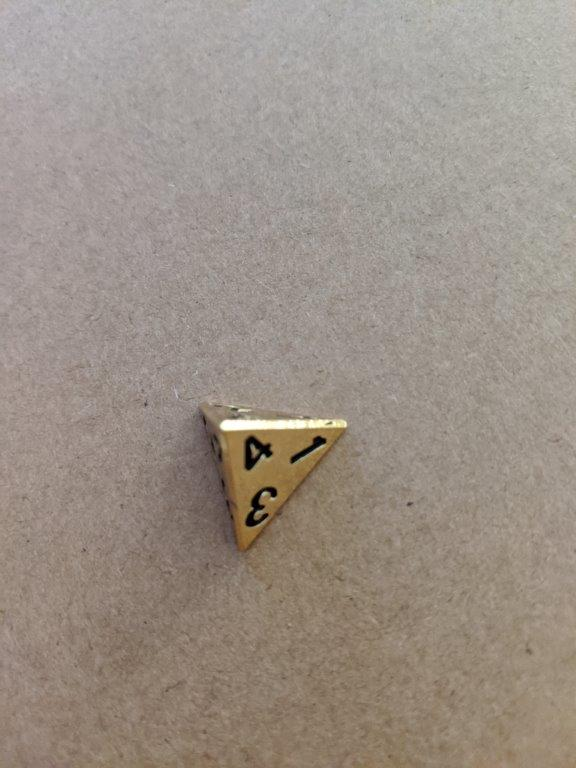d4-4: (195, 397, 347, 555)
